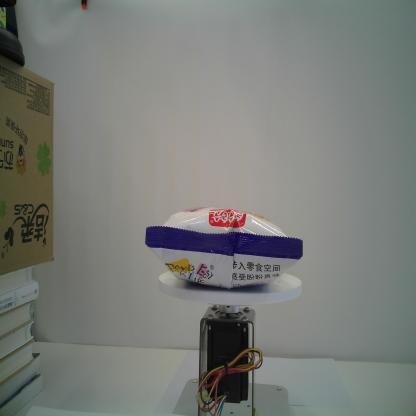Puffed Food: (144, 205, 304, 290)
